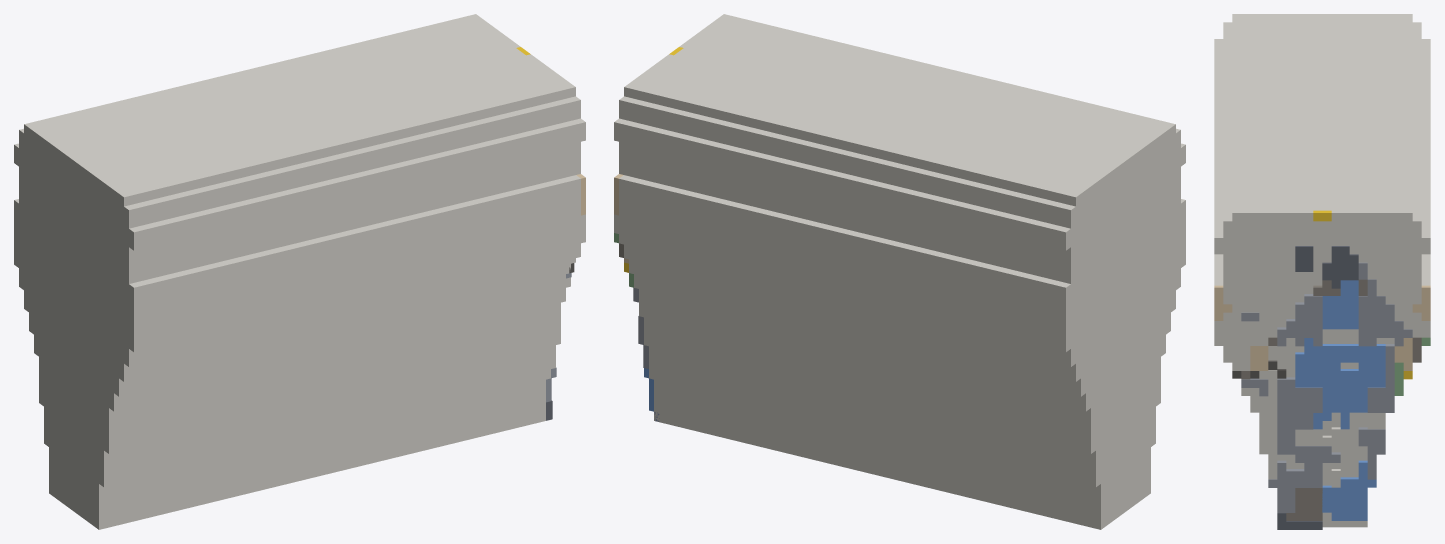
Rendered from parroquia_san_rafael.obj.
The picture shows the model from 3 angles, left to right: view 1: azimuth 30°, elevation 25°; view 2: azimuth 150°, elevation 25°; view 3: azimuth 270°, elevation 25°; orthographic projection. The views are drawn at different scales.
Bounding box in the file's own units: 28.4 × 21 × 13.
